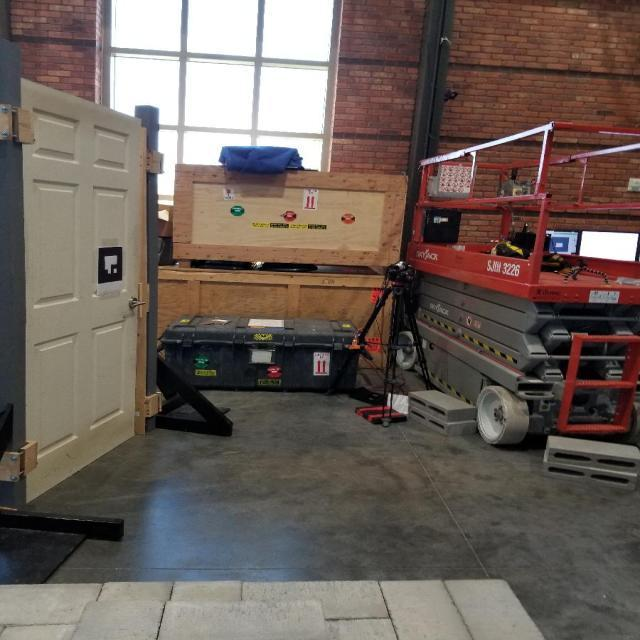door: (18, 74, 144, 504), (125, 294, 149, 312)
